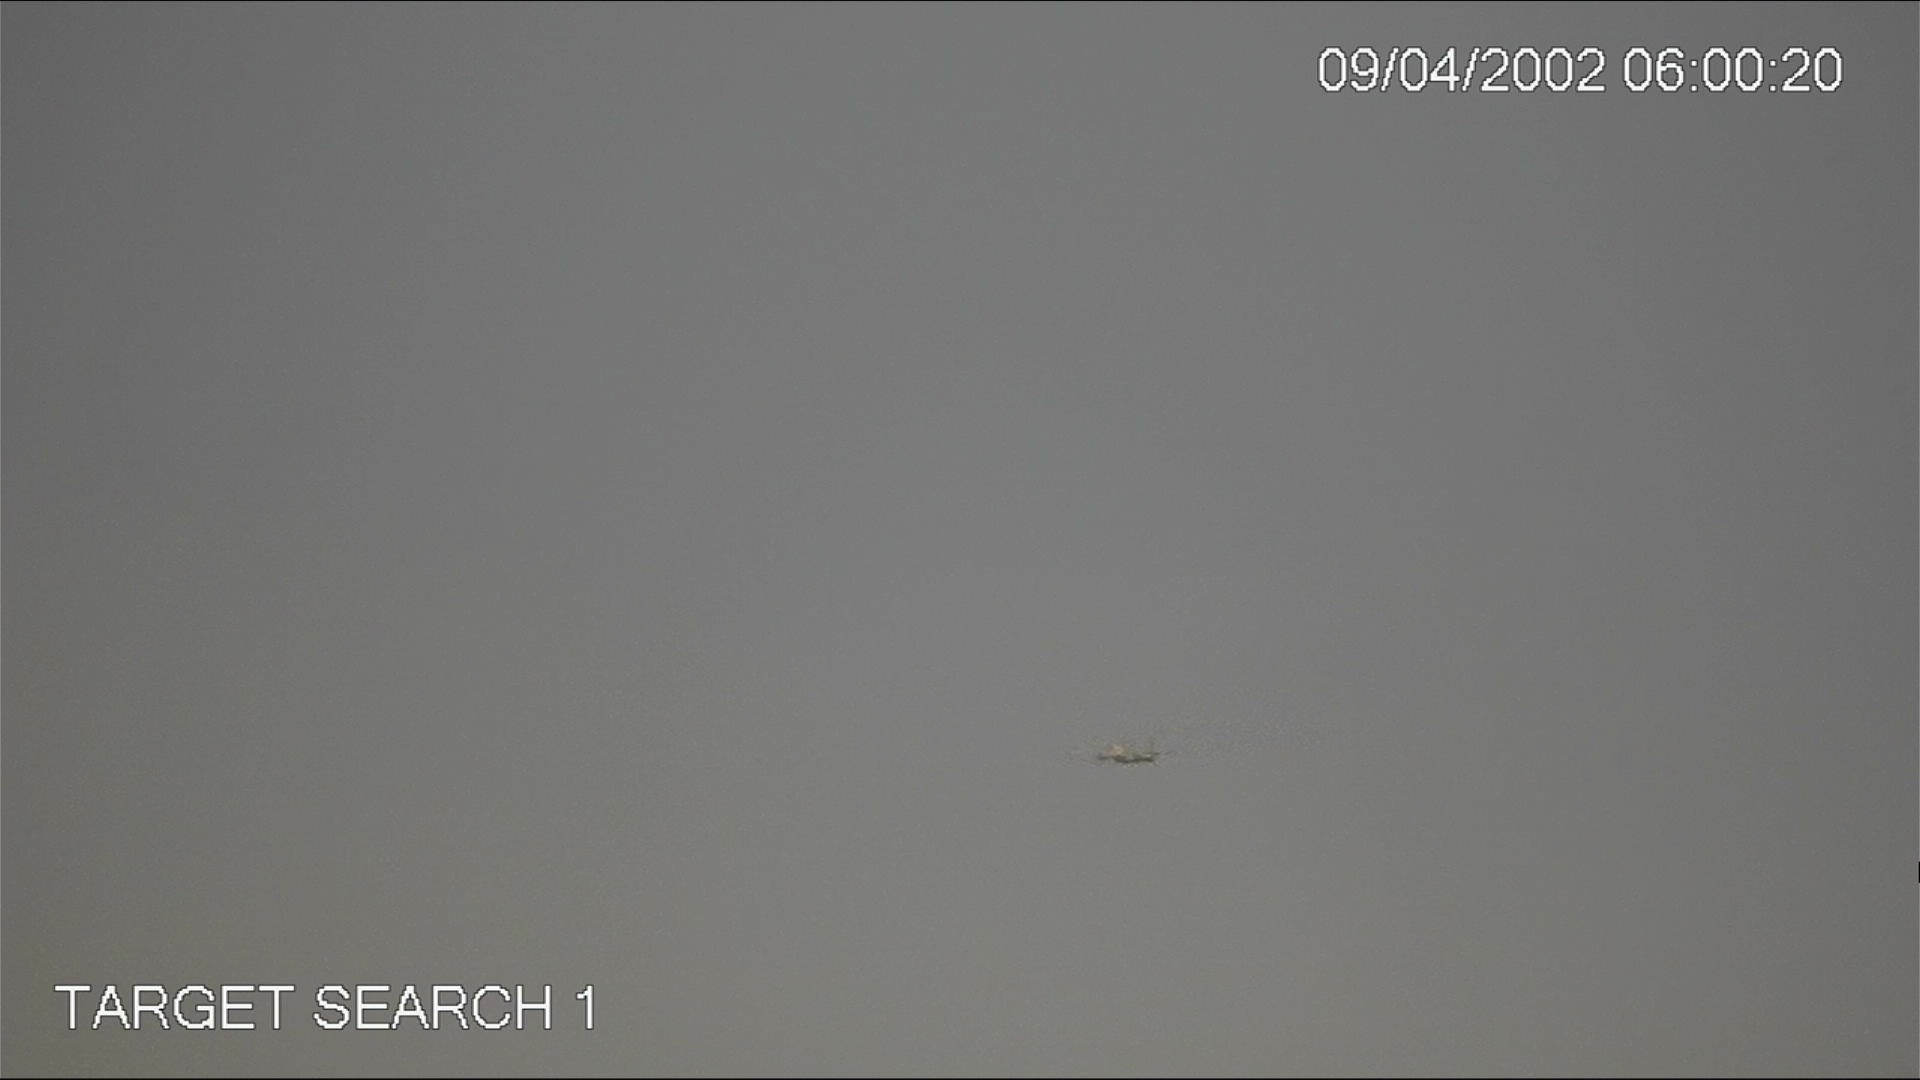SU_30: (1098, 740, 1159, 770)
